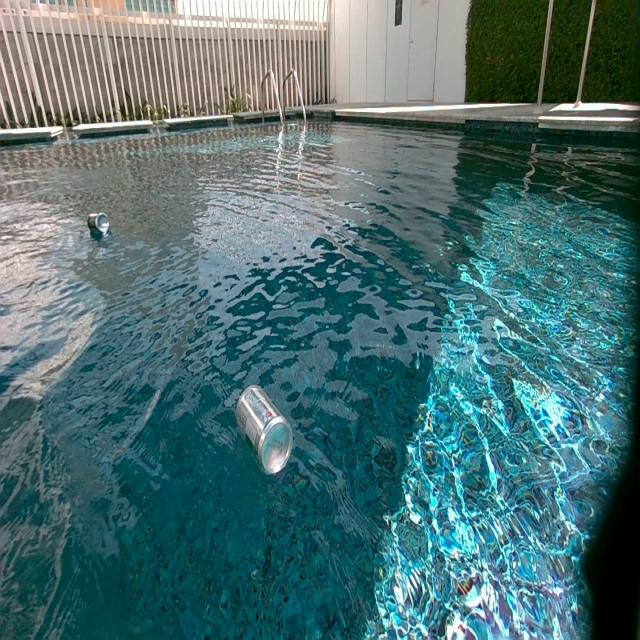Cans: (233, 384, 293, 479), (88, 213, 110, 235)
